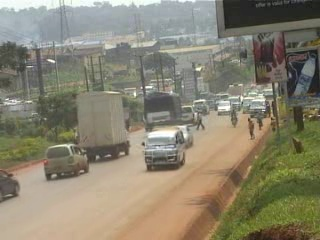Car: (42, 141, 91, 180), (0, 167, 21, 201), (170, 123, 196, 150), (190, 98, 211, 117), (214, 100, 234, 114), (207, 100, 221, 112)
